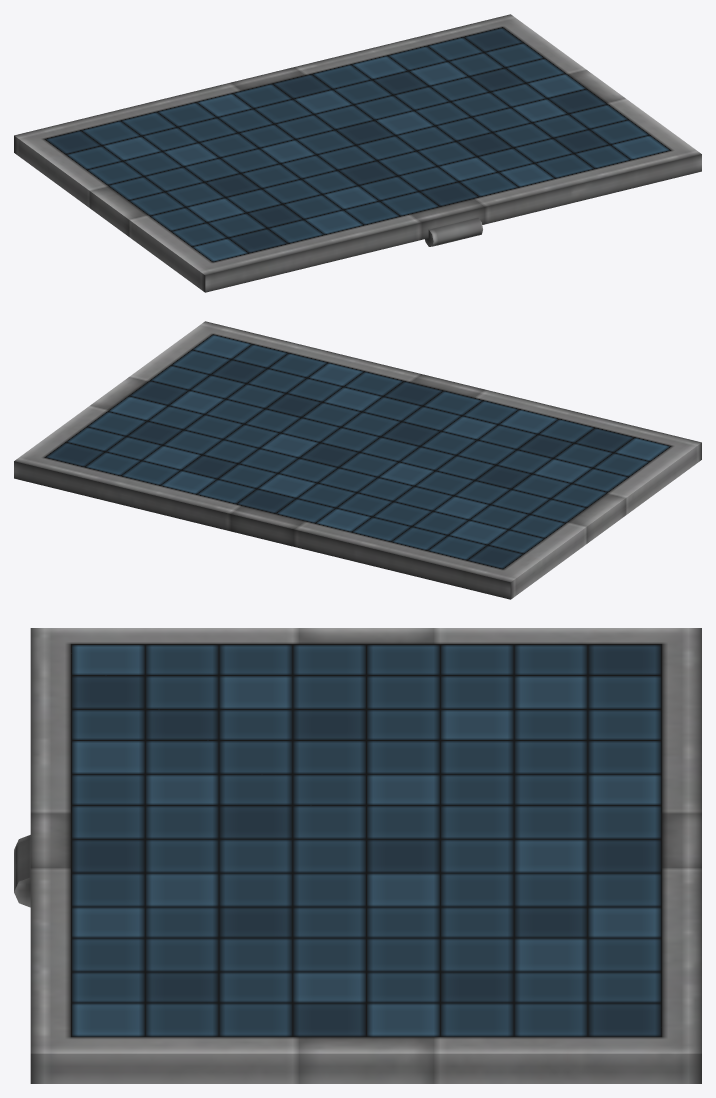
File: grus_solar_srf_1.obj
The picture shows the model from 3 angles, top to bottom: view 1: azimuth 30°, elevation 25°; view 2: azimuth 150°, elevation 25°; view 3: azimuth 270°, elevation 25°; orthographic projection. The views are drawn at different scales.
Visible parts, largest first — view 1: 1; view 2: 1; view 3: 1.
Boxes of the visible parts, <box> form: 1: <box>14,14,701,292</box>; 1: <box>14,321,701,599</box>; 1: <box>14,628,701,1083</box>.
Bounding box in the file's own units: 0.75 × 0.0375 × 0.5125.
1 material, 1 textured.
